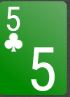Clover: (4, 33, 23, 52)
